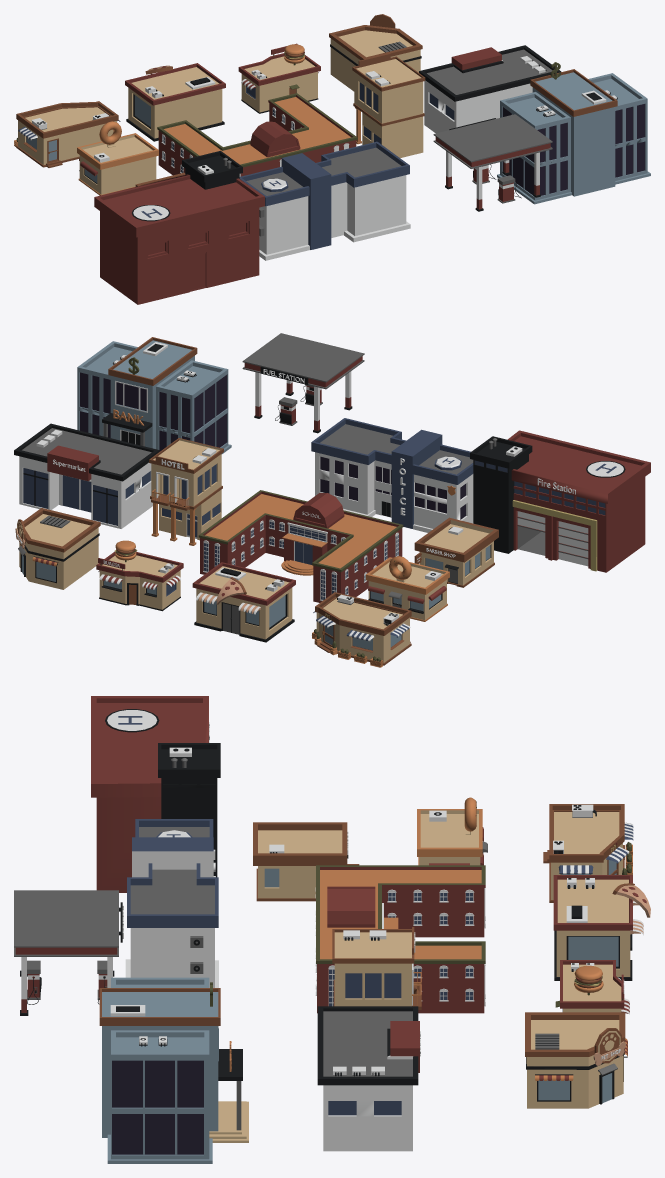
Rendered from building.fbx.
3 renders of one model, top to bottom at view 1: azimuth 30°, elevation 25°; view 2: azimuth 150°, elevation 25°; view 3: azimuth 270°, elevation 25°, orthographic. The views are drawn at different scales.
Parts seen in each view (by area): view 1: fire station, Bank_1, police station, school, supermarket, hotel, Pizza, Fuel_Station_1.027, Куб.198, donut, Burger_Place_1, pet; view 2: fire station, Bank_1, school, police station, supermarket, hotel, Pizza, Fuel_Station_1.027, Куб.198, pet, Burger_Place_1, barber shop (+1 smaller); view 3: Bank_1, fire station, school, supermarket, police station, pet, Fuel_Station_1.027, Pizza, hotel, barber shop, Куб.198, donut (+1 smaller).
Boxes of the visible parts, x1,y1,x2,y2 form: fire station: (94, 150, 264, 304); Bank_1: (497, 62, 650, 204); police station: (239, 141, 410, 260); school: (157, 93, 357, 176); supermarket: (419, 45, 561, 133); hotel: (352, 53, 425, 157); Pizza: (125, 63, 225, 141); Fuel_Station_1.027: (433, 114, 552, 211); Куб.198: (14, 101, 120, 167); donut: (77, 121, 158, 195); Burger_Place_1: (238, 43, 320, 113); pet: (329, 14, 422, 91); fire station: (470, 430, 650, 572); Bank_1: (77, 337, 231, 454); school: (198, 490, 403, 602); police station: (311, 418, 473, 532); supermarket: (14, 423, 159, 528); hotel: (149, 438, 223, 545); Pizza: (192, 562, 295, 642); Fuel_Station_1.027: (242, 333, 364, 433); Куб.198: (312, 592, 411, 667); pet: (15, 508, 100, 589); Burger_Place_1: (96, 540, 183, 611); barber shop: (414, 517, 498, 587); Bank_1: (99, 977, 248, 1163); fire station: (91, 696, 220, 892); school: (315, 865, 485, 1013); supermarket: (317, 1006, 420, 1151); police station: (125, 819, 218, 987); pet: (525, 1012, 627, 1108); Fuel_Station_1.027: (14, 890, 123, 1015); Pizza: (553, 875, 650, 980); hotel: (332, 927, 421, 1009); barber shop: (253, 822, 359, 901); Куб.198: (543, 804, 633, 902); donut: (417, 797, 487, 865).
Size of the model in its own units: 8444 by 1569 by 6378.
